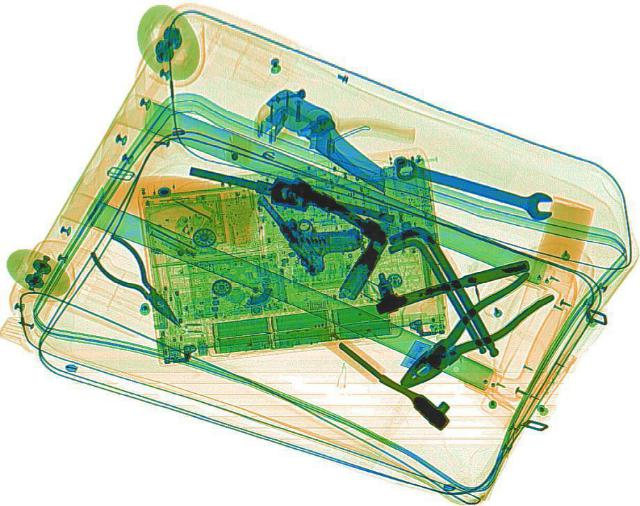Gun: (245, 170, 373, 276)
Pliers: (380, 267, 558, 398), (82, 231, 196, 333)
Wrench: (386, 150, 560, 221)
